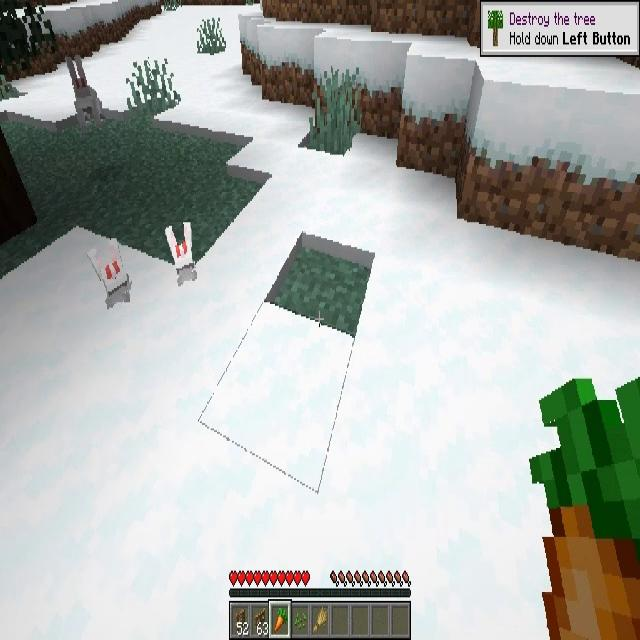rabbit: (92, 238, 132, 312), (66, 57, 104, 125), (164, 222, 200, 286)
